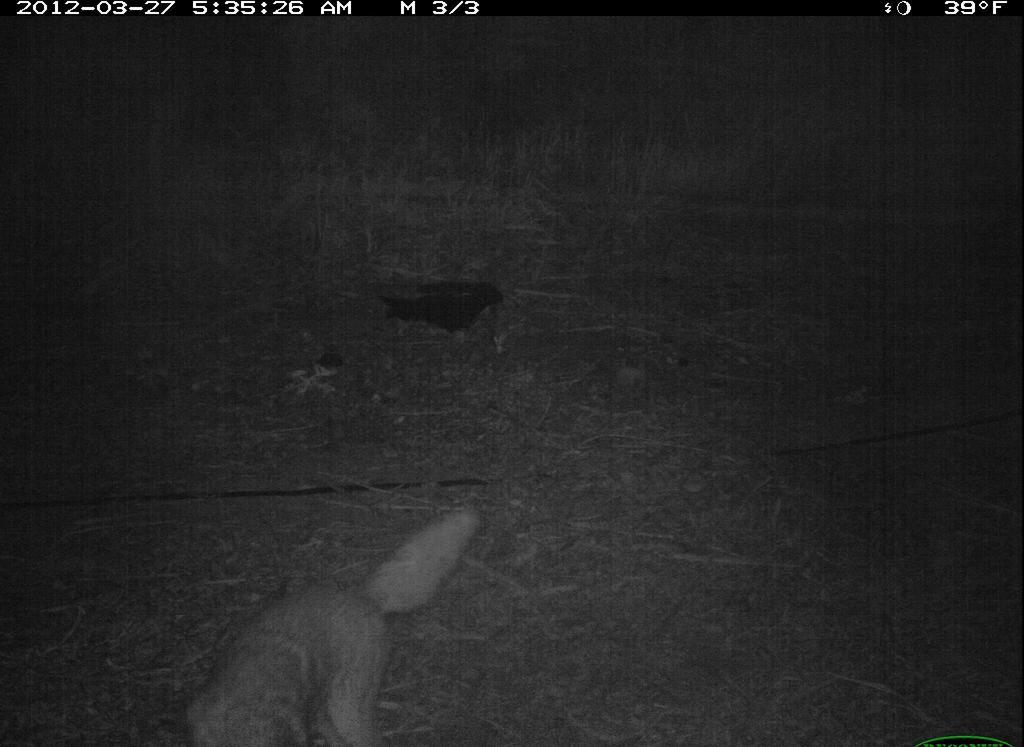coyote: (182, 496, 493, 745)
